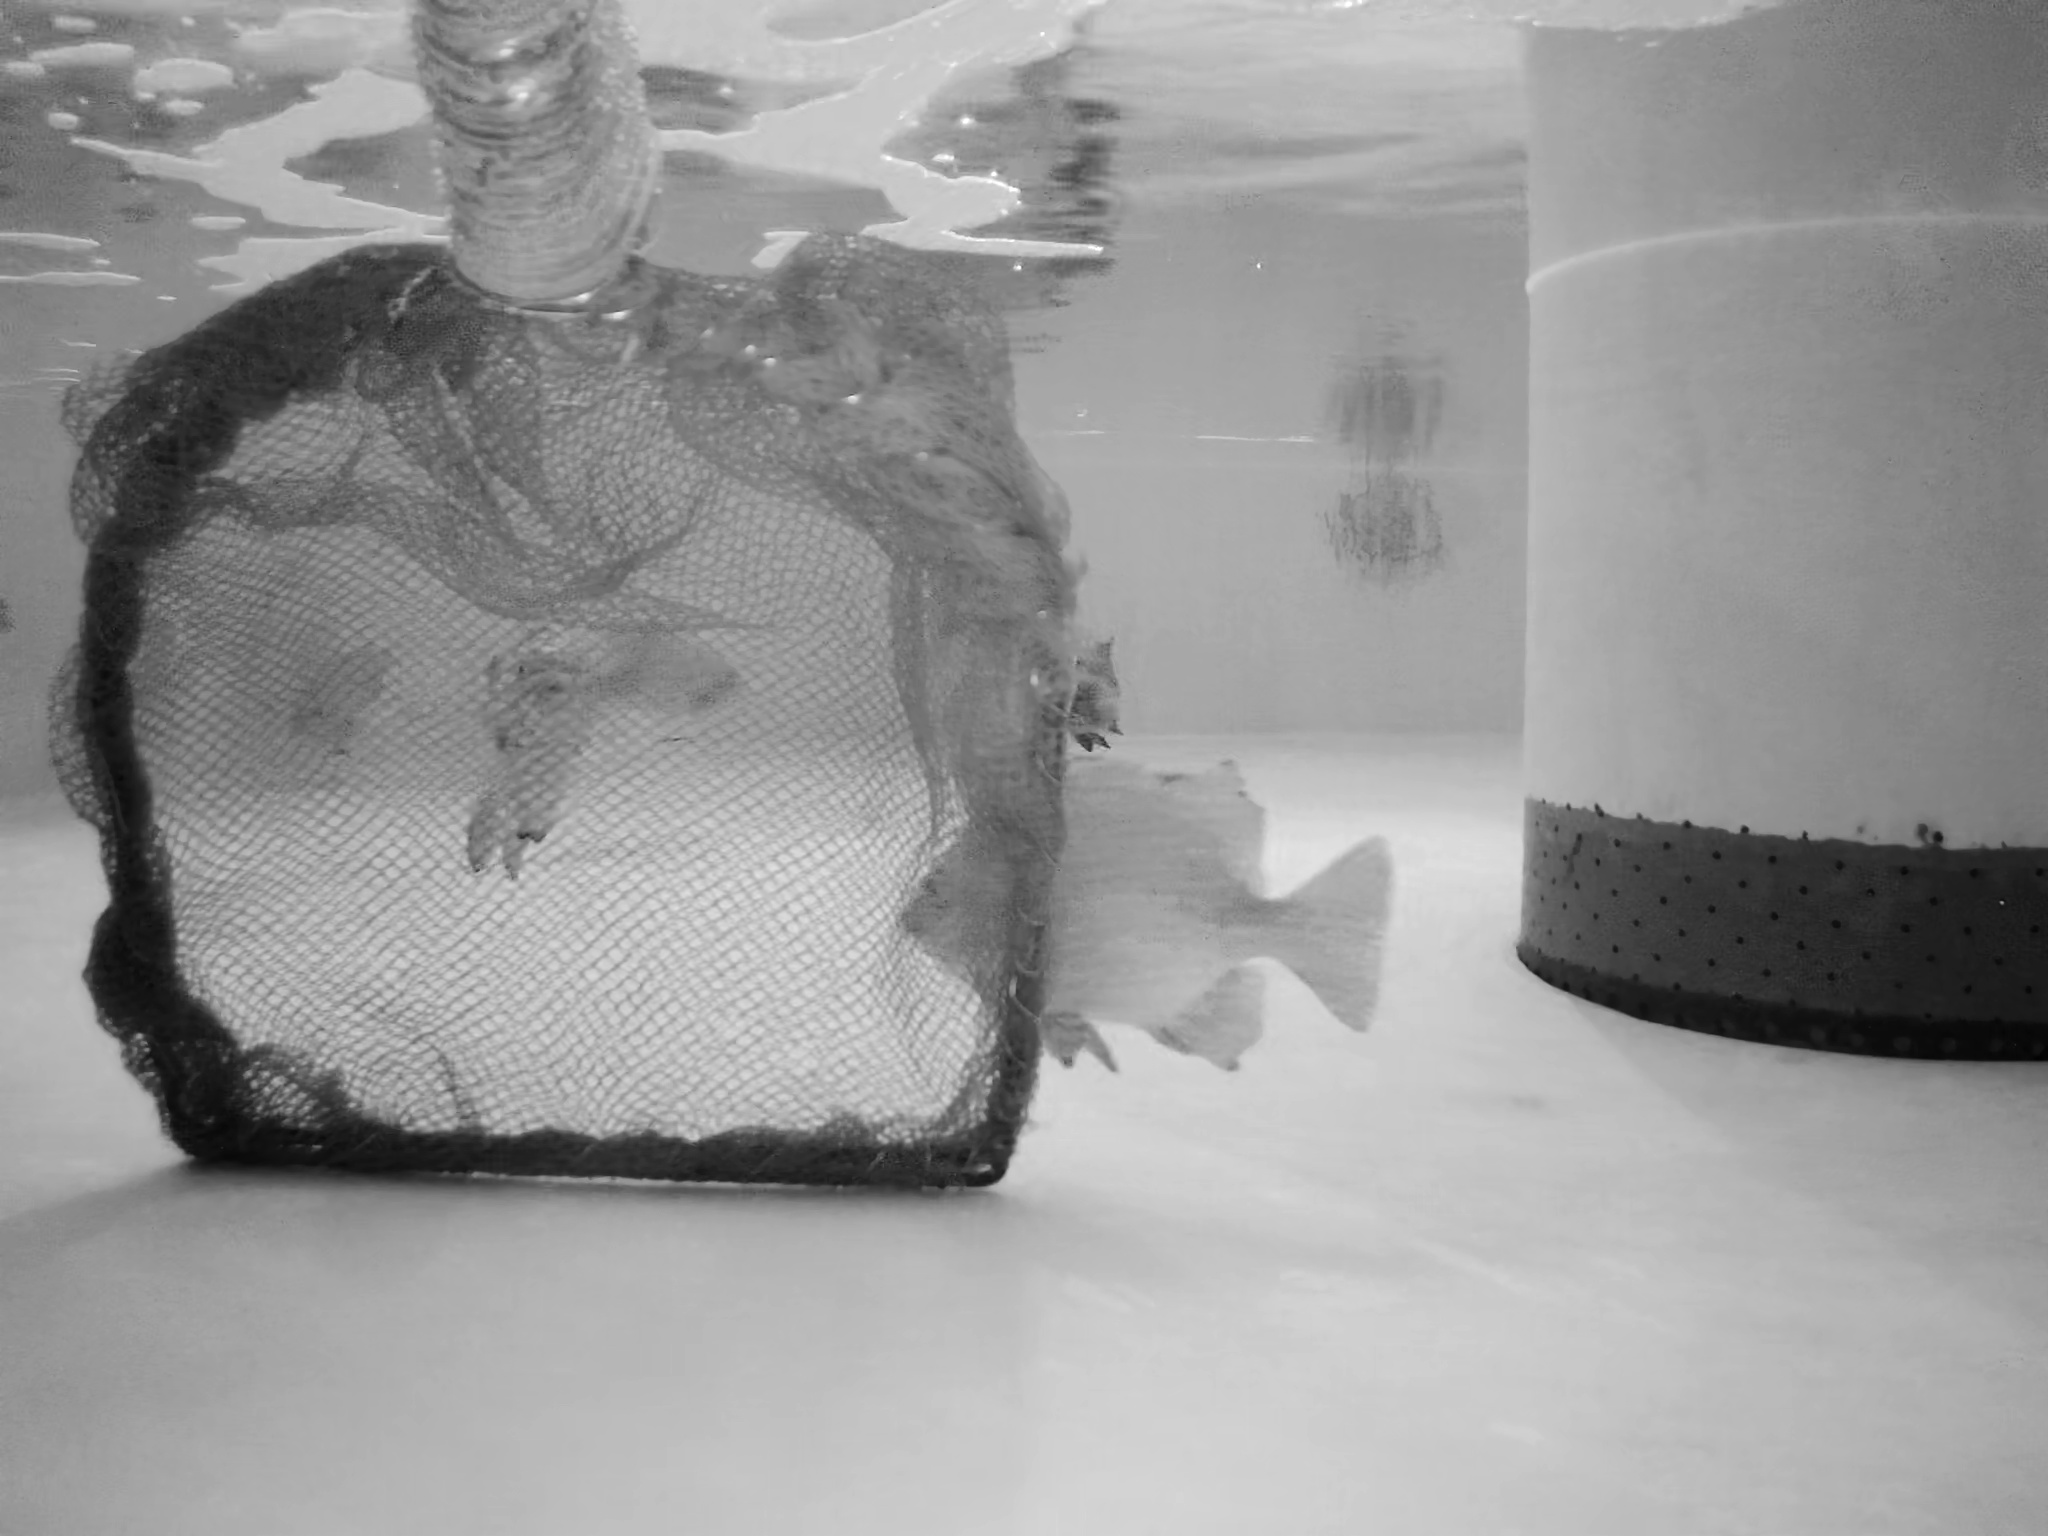fish: (895, 752, 1390, 1058), (439, 623, 611, 900), (582, 616, 753, 726), (285, 637, 390, 763)
